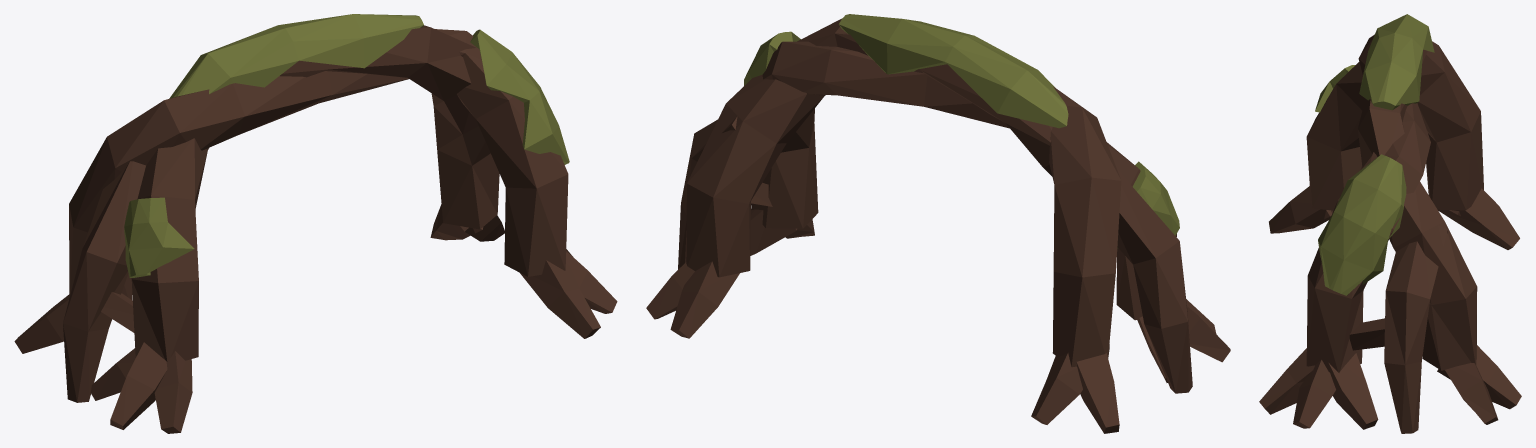
The model's file is FK_RootArch.fbx.
The picture shows the model from 3 angles, left to right: view 1: azimuth 30°, elevation 25°; view 2: azimuth 150°, elevation 25°; view 3: azimuth 270°, elevation 25°; orthographic projection. The views are drawn at different scales.
Parts seen in each view (by area): view 1: FK_RootArch_Wood, FK_RootArch_Moss; view 2: FK_RootArch_Wood, FK_RootArch_Moss; view 3: FK_RootArch_Wood, FK_RootArch_Moss.
Boxes of the visible parts, box(x1,y1,x2,y2) form: FK_RootArch_Wood: box(14, 25, 617, 433); FK_RootArch_Moss: box(124, 14, 569, 277); FK_RootArch_Wood: box(646, 18, 1230, 433); FK_RootArch_Moss: box(744, 14, 1179, 248); FK_RootArch_Wood: box(1259, 34, 1521, 433); FK_RootArch_Moss: box(1315, 14, 1434, 295).
Size of the model in its own units: 31.34 by 18.5 by 15.78.
